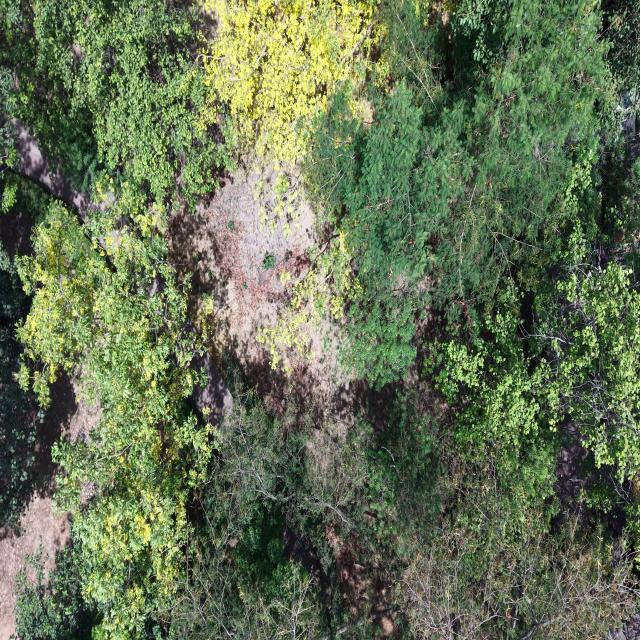DRY_AREA: (168, 169, 392, 476), (169, 172, 393, 475), (169, 172, 393, 471), (168, 171, 387, 468), (168, 170, 371, 463), (168, 171, 365, 456), (167, 168, 371, 437), (168, 169, 352, 423), (168, 168, 318, 387), (168, 168, 318, 372), (168, 168, 318, 370), (168, 169, 317, 365), (169, 168, 317, 364), (168, 168, 317, 362), (168, 169, 316, 363), (0, 377, 100, 639), (0, 378, 99, 639), (0, 379, 99, 639), (0, 378, 89, 639), (0, 378, 78, 639), (0, 115, 107, 220), (0, 495, 69, 639), (10, 119, 90, 216), (190, 352, 232, 423), (64, 381, 101, 442), (0, 209, 33, 257)
VEGETATION_TREE: (0, 0, 639, 639), (0, 2, 229, 637), (308, 2, 614, 383), (174, 394, 637, 638), (18, 192, 215, 637), (0, 0, 230, 205), (172, 385, 324, 639), (204, 0, 379, 162), (0, 241, 47, 527), (0, 245, 41, 526), (14, 545, 96, 639), (602, 0, 639, 107)
